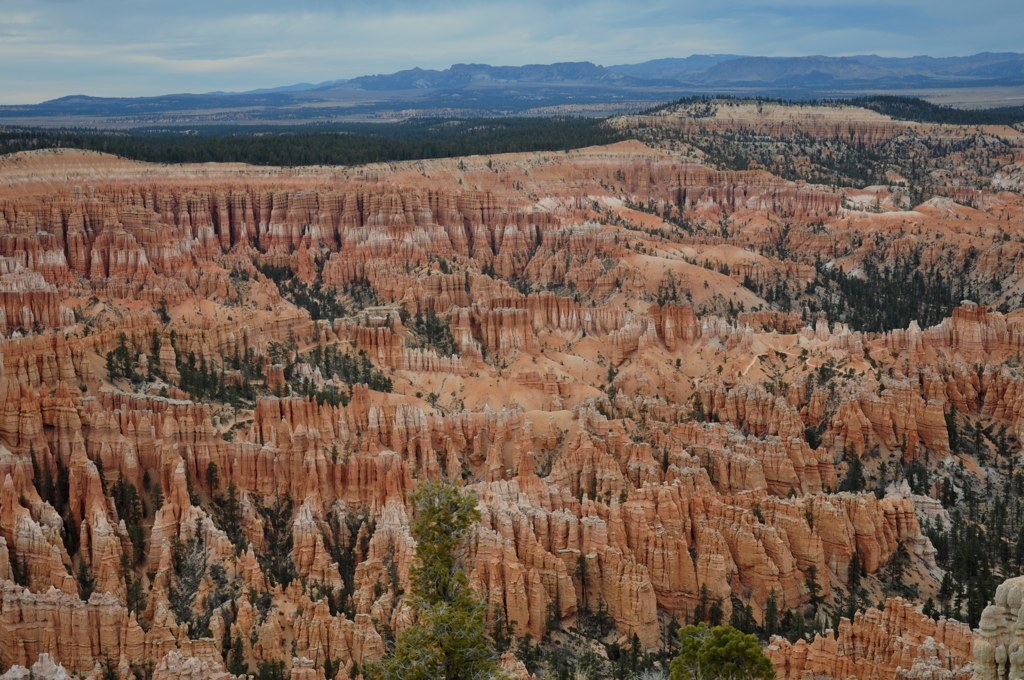Tree: (16, 472, 336, 680), (765, 417, 1024, 600), (626, 96, 1024, 205), (355, 470, 499, 680), (0, 117, 620, 165), (105, 326, 393, 409), (808, 250, 988, 333), (667, 625, 772, 680)
